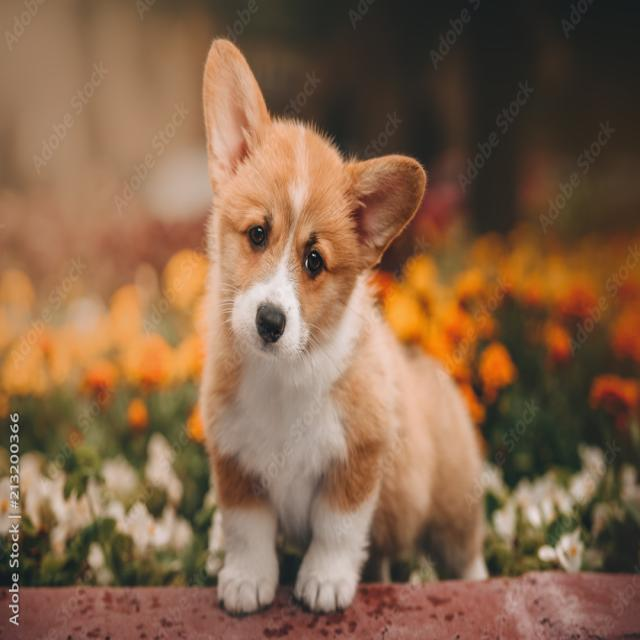CORGI: (187, 47, 503, 606)
